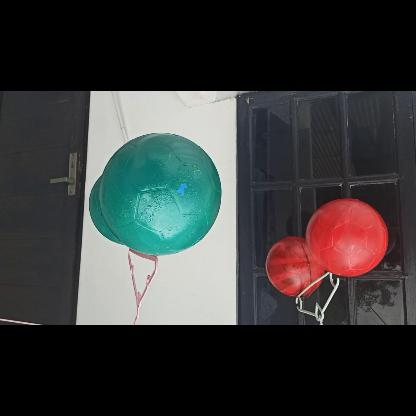red_ball: (309, 198, 389, 278)
